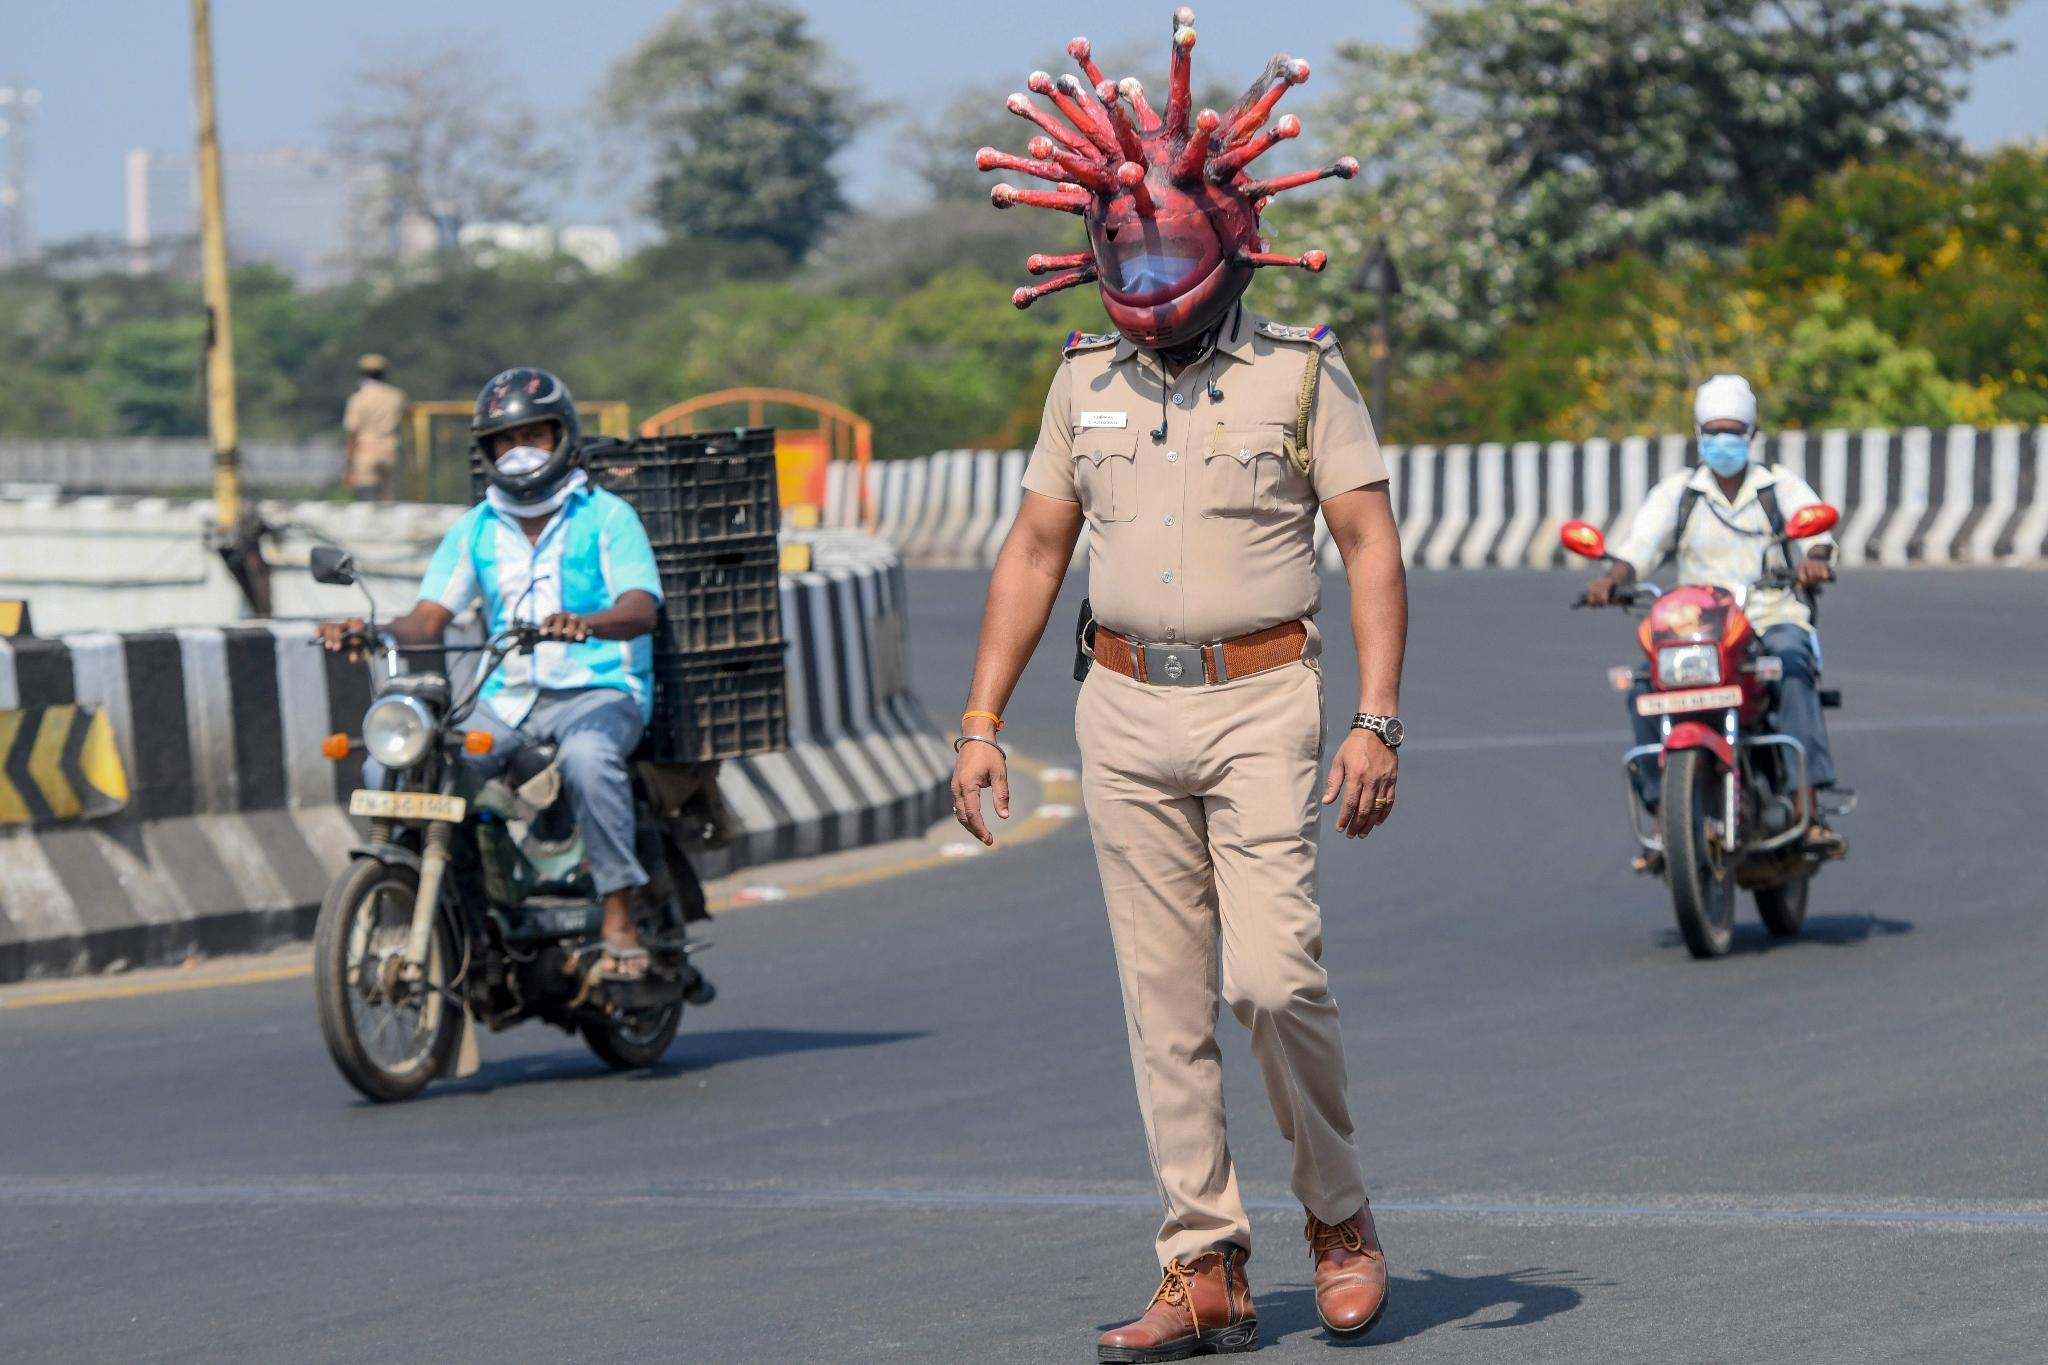Helmet: (976, 26, 1351, 376)
